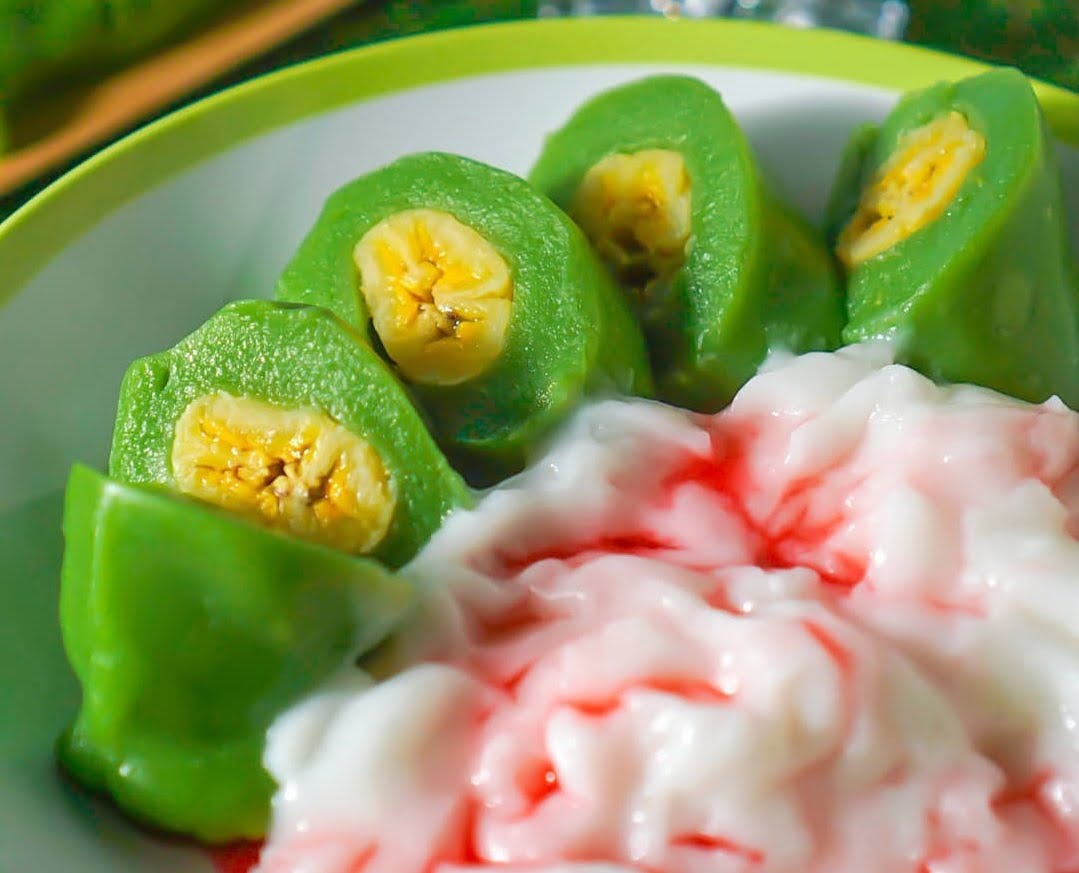pisang_ijo: (222, 141, 662, 452)
